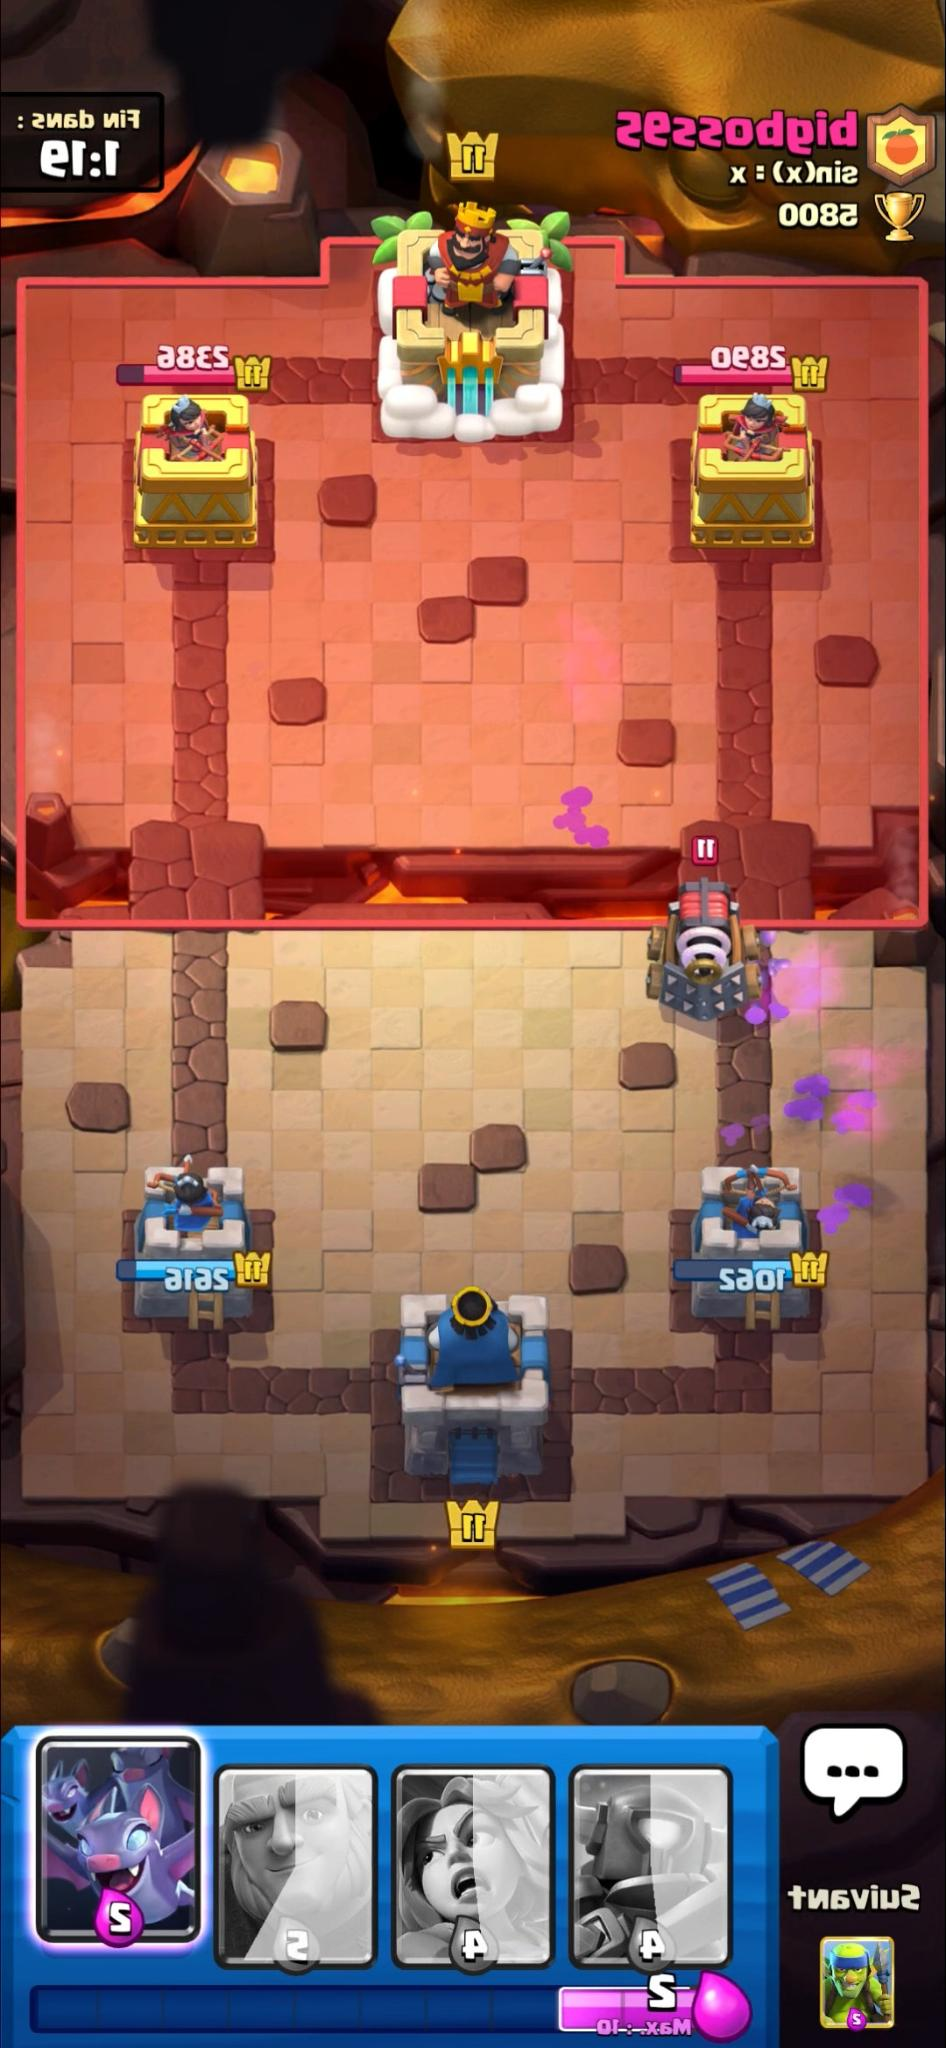zappy: (645, 878, 762, 1024)
